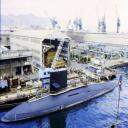submarine: (2, 70, 125, 124)
